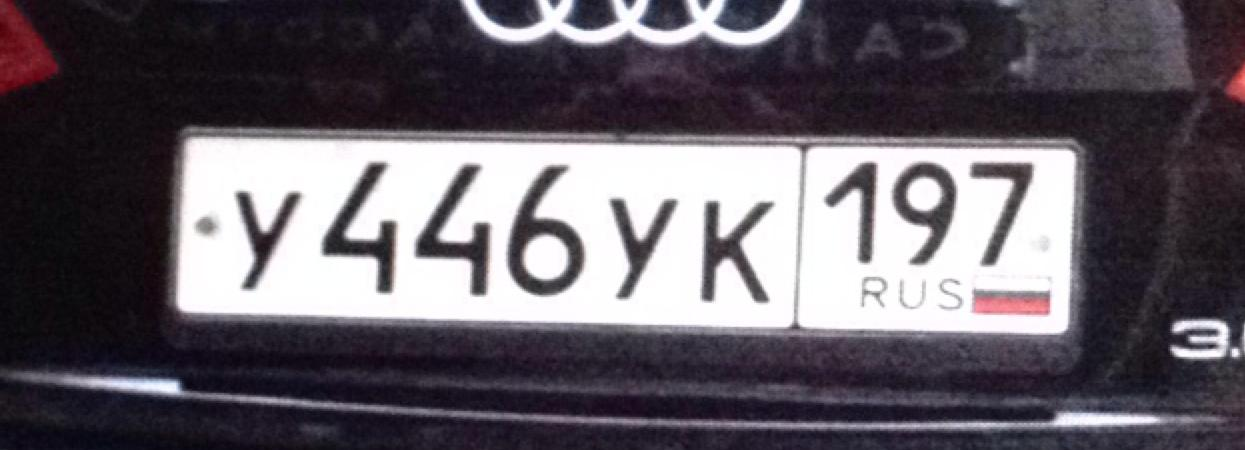license-plateSW: (160, 130, 1070, 334)
